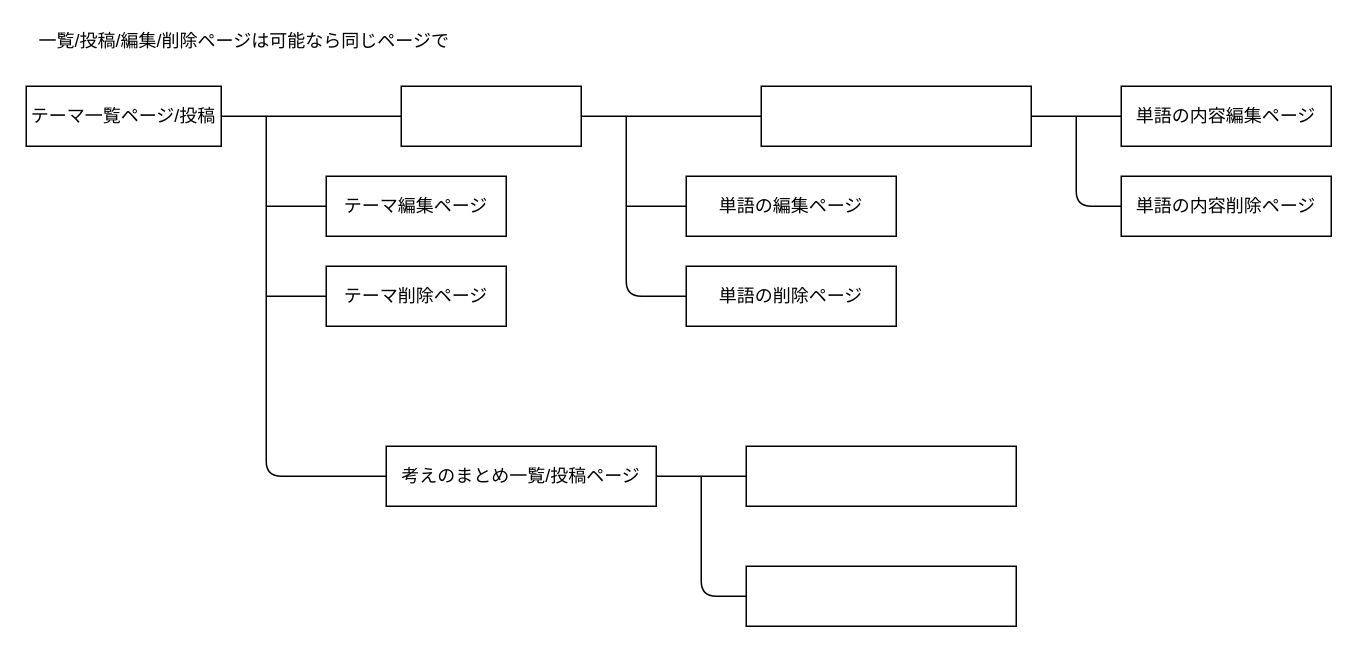
The diagram is 1358 pixels wide and 653 high, and some of its shapes have lost their labels. The shapes that lost their labels are listed below. From the top down, each one's centre as x and y in pixels, then its label:
At point 490,115: "単語一覧/投稿ページ".
At point 895,115: "単語の内容説明一覧/投稿ページ".
At point 880,475: "考えのまとめ編集ページ".
At point 880,595: "考えのまとめ削除ページ".
